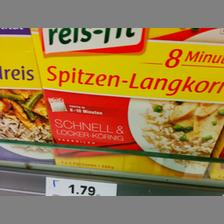Reis: (29, 28, 223, 180)
